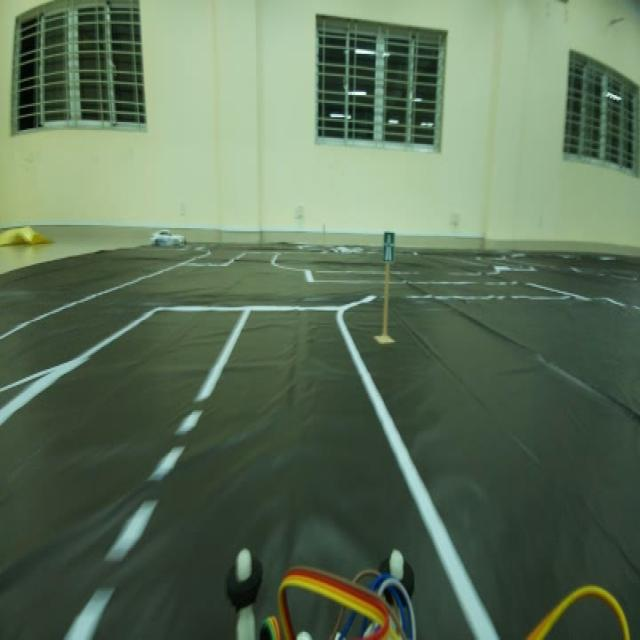highway_entry: (381, 223, 398, 271)
